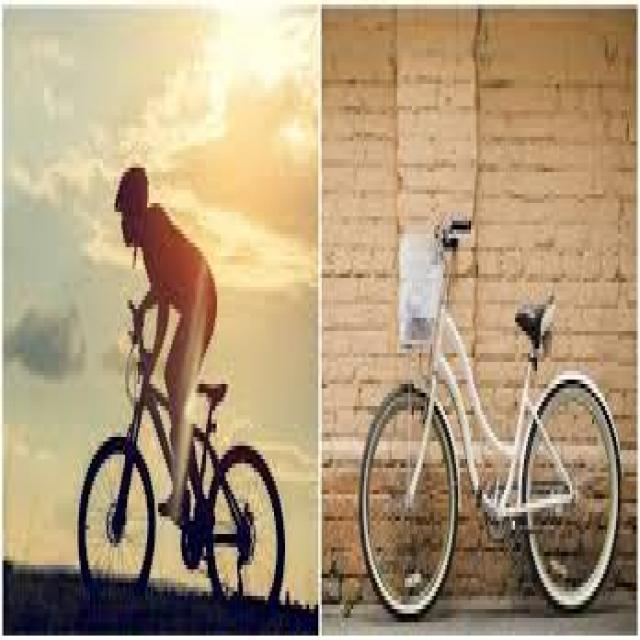bicycle: (362, 204, 622, 616), (80, 303, 286, 618), (114, 160, 219, 525)
